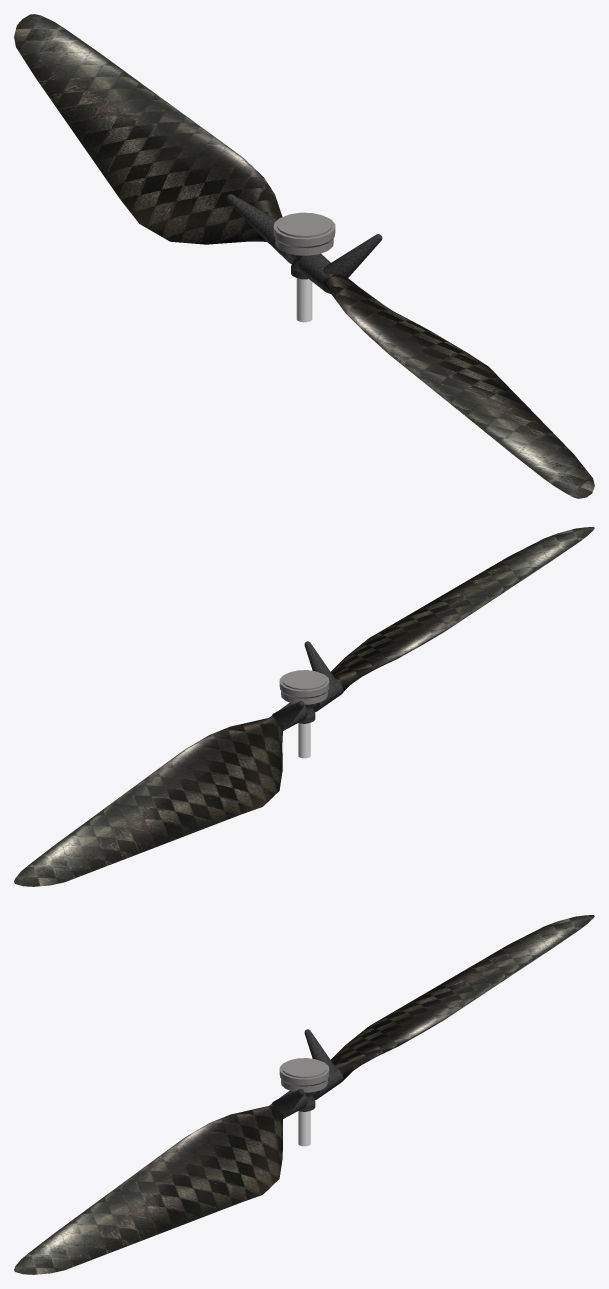
Rendered from ingenuity_prop_ccw.dae.
The picture shows the model from 3 angles, top to bottom: view 1: azimuth 30°, elevation 25°; view 2: azimuth 150°, elevation 25°; view 3: azimuth 330°, elevation 25°; orthographic projection. The views are drawn at different scales.
Visible parts, largest first — view 1: rotors_02; view 2: rotors_02; view 3: rotors_02.
Boxes of the visible parts, left/top/right/bottom form: rotors_02: left=14, top=14, right=594, bottom=498; rotors_02: left=14, top=527, right=594, bottom=886; rotors_02: left=14, top=915, right=594, bottom=1274.
Size of the model in its own units: 0.1253 by 1.21 by 0.1101.
Materials: 4 (2 with a texture image).
